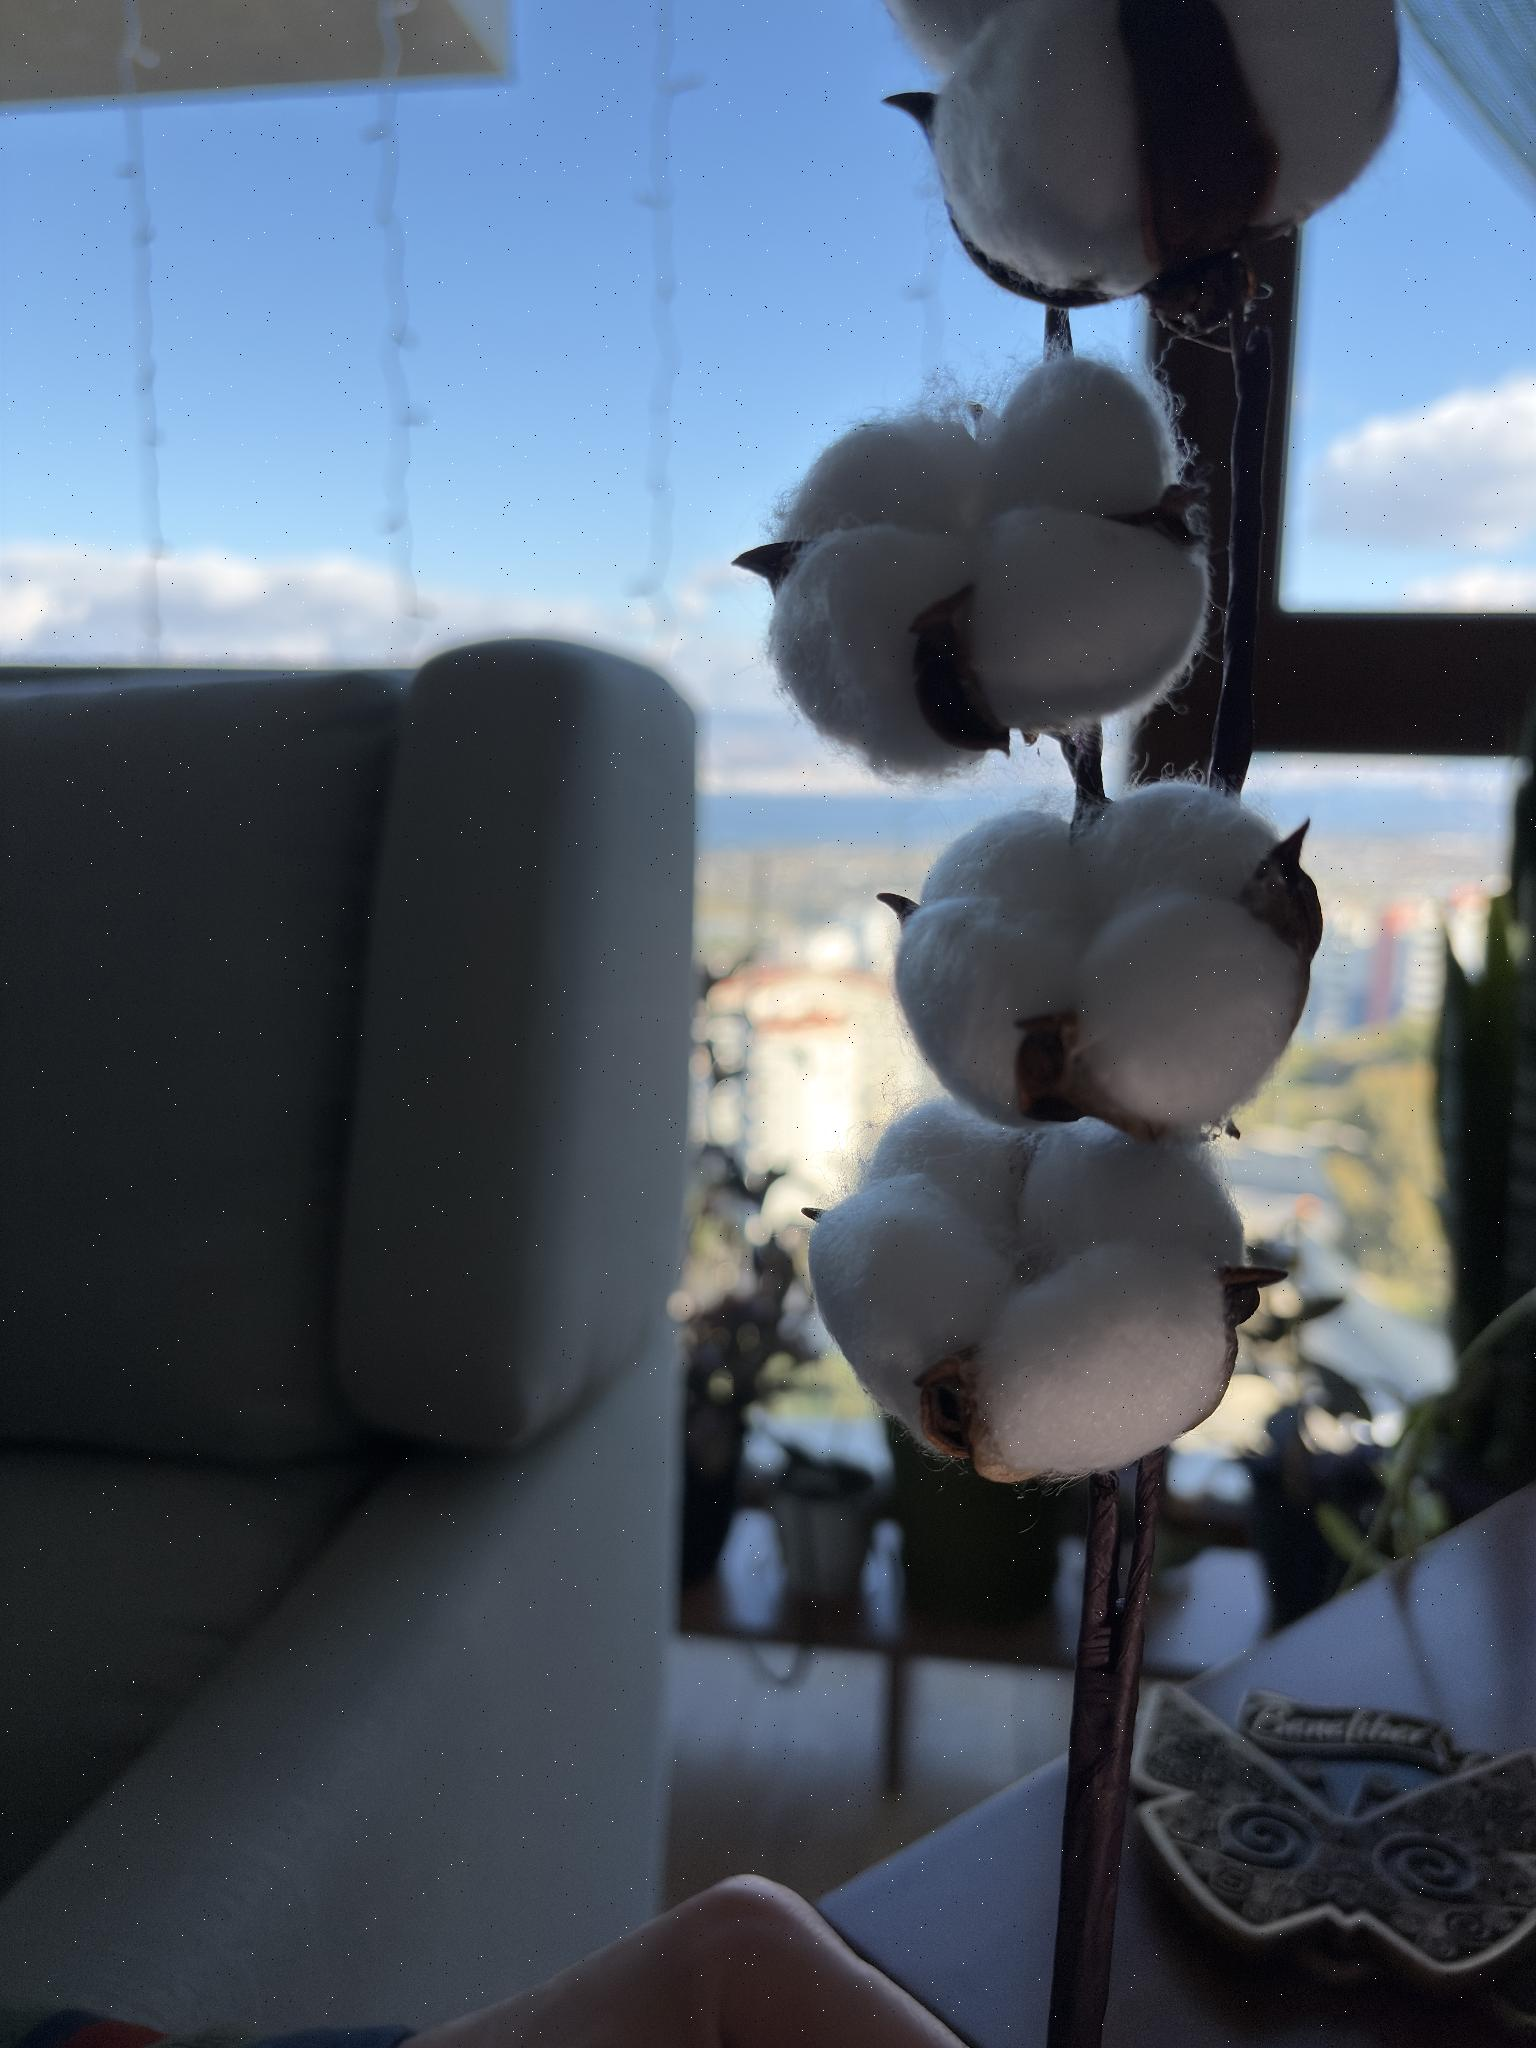cotton_boll: (931, 0, 1155, 298), (971, 1242, 1234, 1480), (1076, 892, 1304, 1127), (966, 508, 1207, 731), (808, 1171, 1012, 1432), (768, 526, 970, 774), (895, 898, 1079, 1124), (1217, 0, 1397, 226), (1018, 1124, 1242, 1271), (983, 355, 1176, 518), (1075, 780, 1278, 922), (779, 413, 978, 540), (865, 1095, 1036, 1234), (921, 810, 1081, 921)
cotton_boll-cluster: (800, 1074, 1257, 1505), (770, 343, 1212, 785), (881, 785, 1326, 1156)
